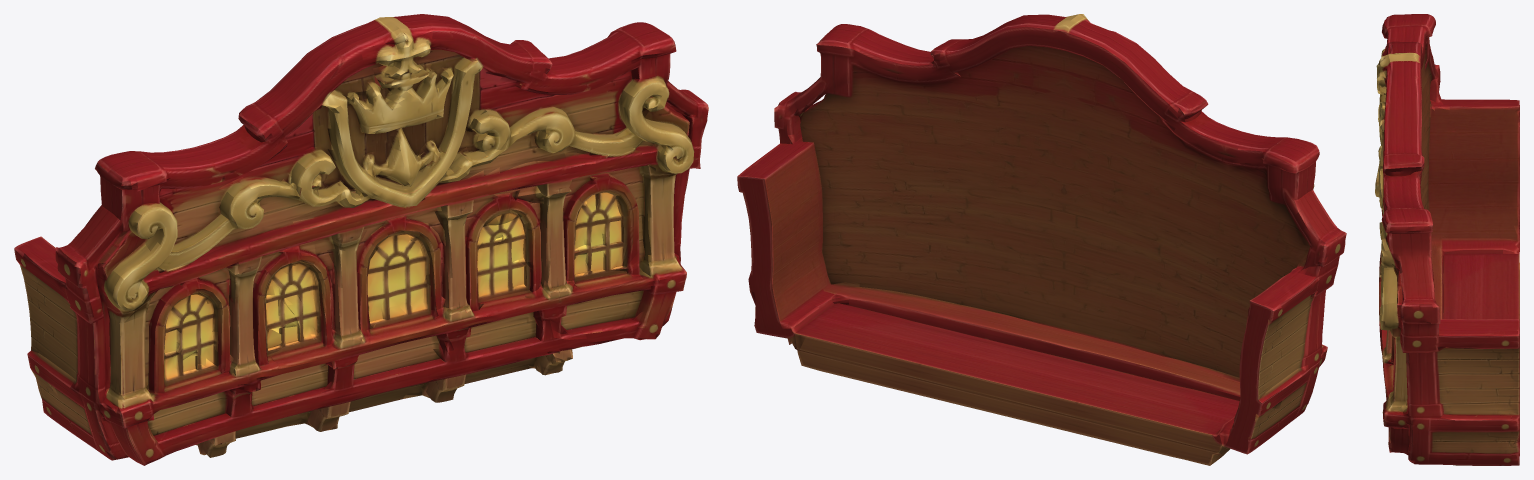
File: crash-stern-gallery.glb
The picture shows the model from 3 angles, left to right: view 1: azimuth 30°, elevation 25°; view 2: azimuth 150°, elevation 25°; view 3: azimuth 270°, elevation 25°; orthographic projection. The views are drawn at different scales.
Parts seen in each view (by area): view 1: Stern gallery rigid orientation and uniform fit; view 2: Stern gallery rigid orientation and uniform fit; view 3: Stern gallery rigid orientation and uniform fit.
Boxes of the visible parts, x1,y1,x2,y2 form: Stern gallery rigid orientation and uniform fit: (14, 14, 708, 465); Stern gallery rigid orientation and uniform fit: (737, 14, 1346, 465); Stern gallery rigid orientation and uniform fit: (1375, 14, 1519, 465).
Bounding box in the file's own units: 16 × 9.69 × 3.97.
Materials: 1 (1 with a texture image).
